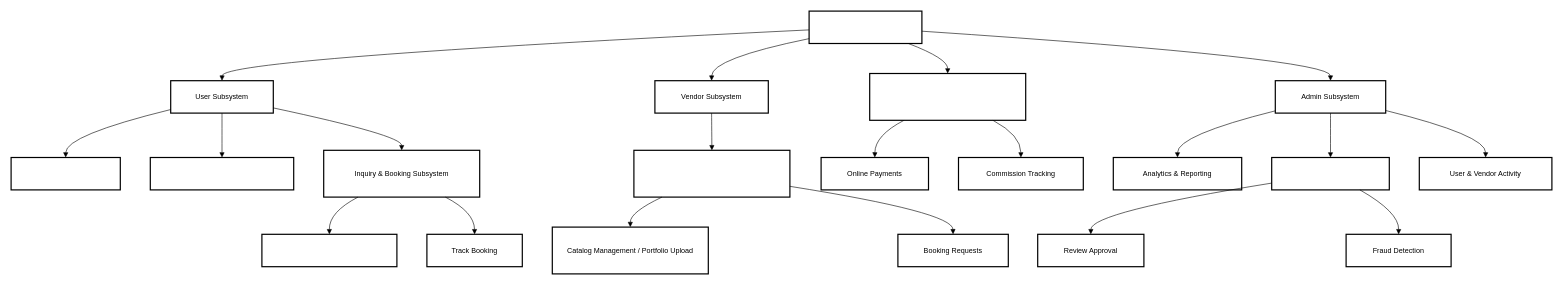
This 1562x284 diagram has some shape labels left out. Here are the shapes that lost their labels. From the top down, the centre of each, then its label:
the point at 865,27: WedCircle System
the point at 947,97: Payment Processing Subsystem
the point at 65,173: User Registration
the point at 221,173: User Profile Management
the point at 711,173: Vendor Management Subsystem
the point at 1330,173: Moderation System
the point at 329,250: Search / Filter Booking
